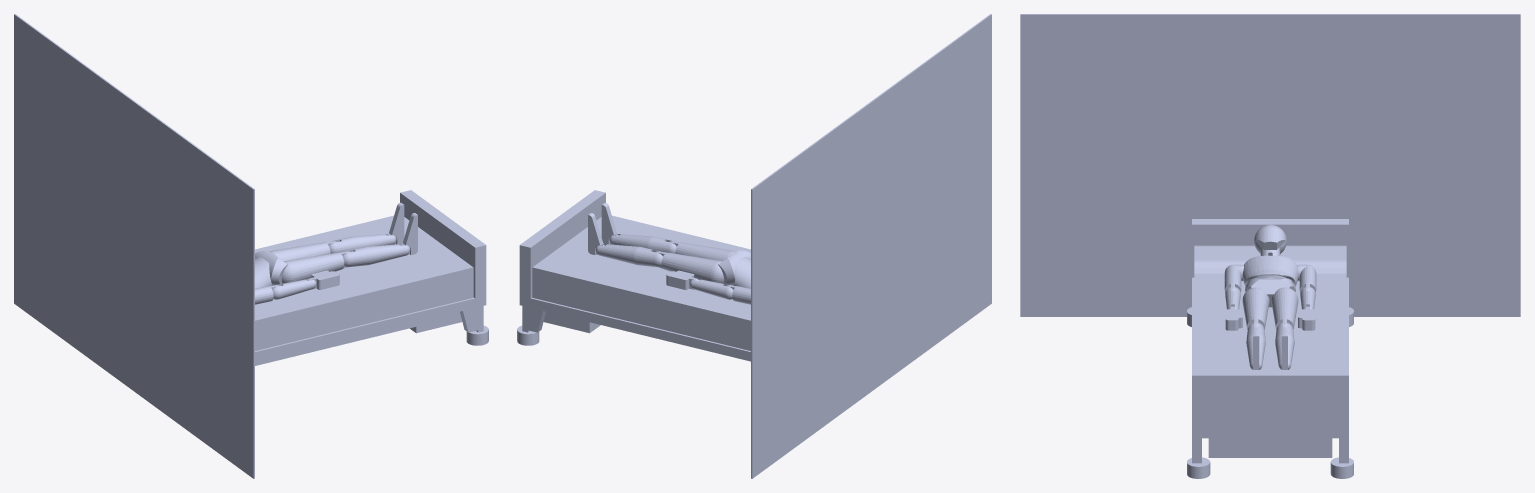
Rendered from bed_and_body_expanded.dae.
3 views of the same model, side by side, from view 1: azimuth 30°, elevation 25°; view 2: azimuth 150°, elevation 25°; view 3: azimuth 270°, elevation 25° (orthographic). The views are drawn at different scales.
Parts seen in each view (by area): view 1: autobed/wall_link, autobed/bed_frame_link, autobed/leg_rest_lower_link, autobed/leg_rest_upper_link, autobed/head_rest_link, autobed/quad_right_link, autobed/calf_right_link, autobed/calf_left_link, autobed/quad_left_link, autobed/forearm_right_link, autobed/lower_body_link; view 2: autobed/wall_link, autobed/bed_frame_link, autobed/leg_rest_lower_link, autobed/leg_rest_upper_link, autobed/head_rest_link, autobed/quad_left_link, autobed/calf_left_link, autobed/calf_right_link, autobed/quad_right_link, autobed/forearm_left_link, autobed/lower_body_link; view 3: autobed/wall_link, autobed/bed_frame_link, autobed/head_rest_link, autobed/leg_rest_lower_link, autobed/leg_rest_upper_link, autobed/upper_body_link, autobed/base_link, autobed/quad_left_link, autobed/quad_right_link, autobed/head_link, autobed/lower_body_link, autobed/calf_left_link (+1 smaller).
Part boxes in pixels (x1=…): autobed/wall_link: x1=14, y1=14, x2=254, y2=478; autobed/bed_frame_link: x1=255, y1=190, x2=486, y2=365; autobed/leg_rest_lower_link: x1=305, y1=215, x2=473, y2=320; autobed/leg_rest_upper_link: x1=255, y1=237, x2=377, y2=333; autobed/head_rest_link: x1=255, y1=301, x2=288, y2=350; autobed/quad_right_link: x1=281, y1=251, x2=350, y2=283; autobed/calf_right_link: x1=343, y1=244, x2=410, y2=267; autobed/calf_left_link: x1=329, y1=234, x2=396, y2=253; autobed/quad_left_link: x1=270, y1=241, x2=336, y2=261; autobed/forearm_right_link: x1=272, y1=279, x2=316, y2=299; autobed/lower_body_link: x1=255, y1=250, x2=287, y2=285; autobed/wall_link: x1=751, y1=14, x2=991, y2=478; autobed/bed_frame_link: x1=519, y1=190, x2=750, y2=361; autobed/leg_rest_lower_link: x1=532, y1=215, x2=700, y2=320; autobed/leg_rest_upper_link: x1=628, y1=237, x2=750, y2=333; autobed/head_rest_link: x1=717, y1=301, x2=750, y2=350; autobed/quad_left_link: x1=655, y1=251, x2=724, y2=283; autobed/calf_left_link: x1=595, y1=244, x2=662, y2=267; autobed/calf_right_link: x1=609, y1=234, x2=676, y2=253; autobed/quad_right_link: x1=669, y1=241, x2=735, y2=261; autobed/forearm_left_link: x1=689, y1=279, x2=733, y2=299; autobed/lower_body_link: x1=718, y1=250, x2=750, y2=285; autobed/wall_link: x1=1020, y1=14, x2=1520, y2=316; autobed/bed_frame_link: x1=1192, y1=219, x2=1348, y2=463; autobed/head_rest_link: x1=1194, y1=245, x2=1346, y2=296; autobed/leg_rest_lower_link: x1=1194, y1=342, x2=1346, y2=369; autobed/leg_rest_upper_link: x1=1194, y1=316, x2=1346, y2=341; autobed/upper_body_link: x1=1242, y1=255, x2=1298, y2=286; autobed/base_link: x1=1187, y1=307, x2=1353, y2=478; autobed/quad_left_link: x1=1271, y1=287, x2=1298, y2=329; autobed/quad_right_link: x1=1242, y1=287, x2=1269, y2=329; autobed/head_link: x1=1254, y1=224, x2=1286, y2=253; autobed/lower_body_link: x1=1246, y1=278, x2=1294, y2=307; autobed/calf_left_link: x1=1275, y1=323, x2=1294, y2=369.
Bounding box in the file's own units: 2.31 × 3 × 2.
